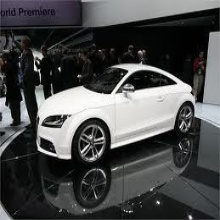no damage: (34, 63, 196, 164)
